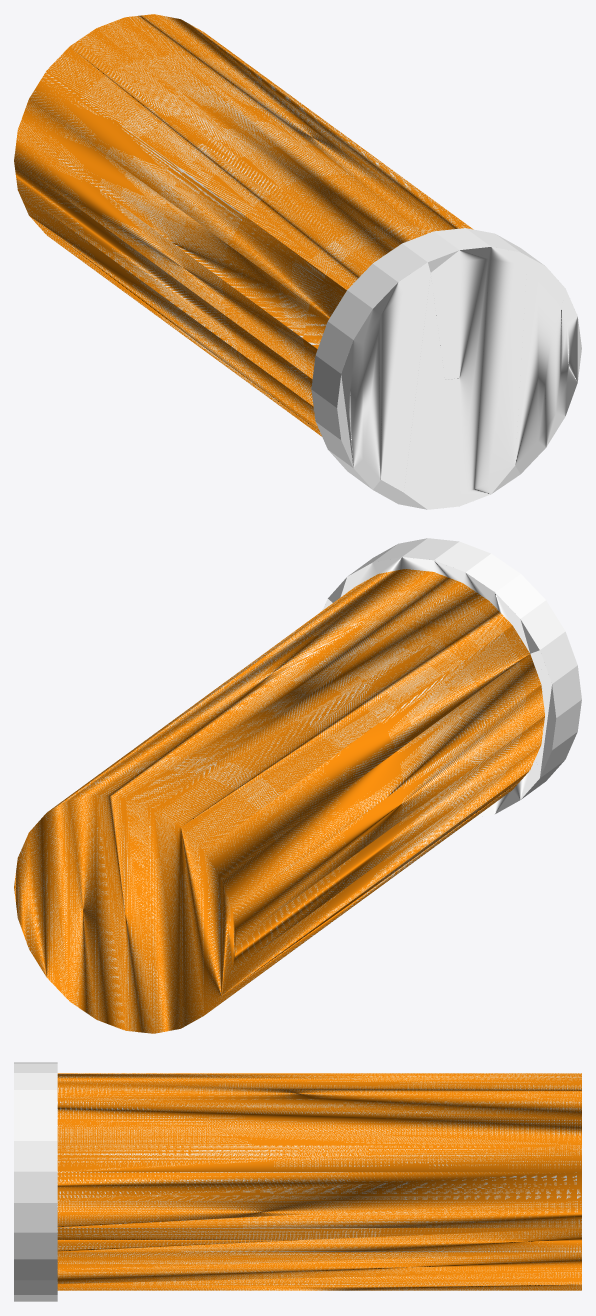
Rendered from model_align.obj.
3 renders of one model, top to bottom at view 1: azimuth 30°, elevation 25°; view 2: azimuth 150°, elevation 25°; view 3: azimuth 270°, elevation 25°, orthographic. The views are drawn at different scales.
Bounding box in the file's own units: 0.1091 × 0.1091 × 0.2579.
